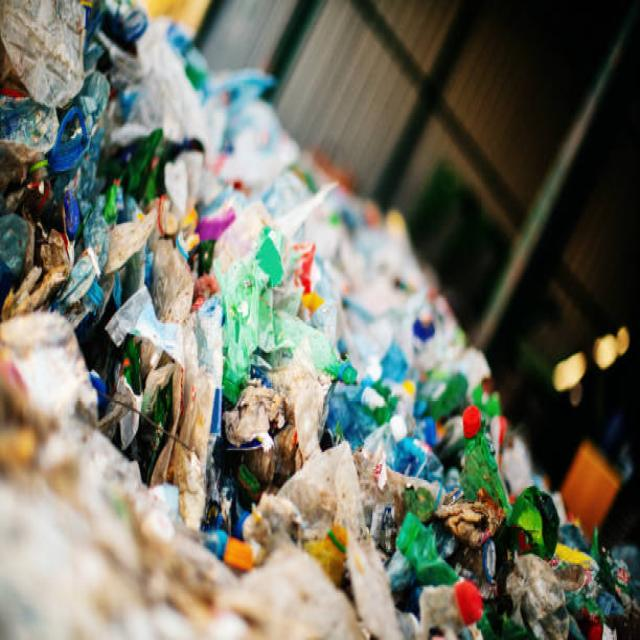plastic: (115, 180, 586, 640)
